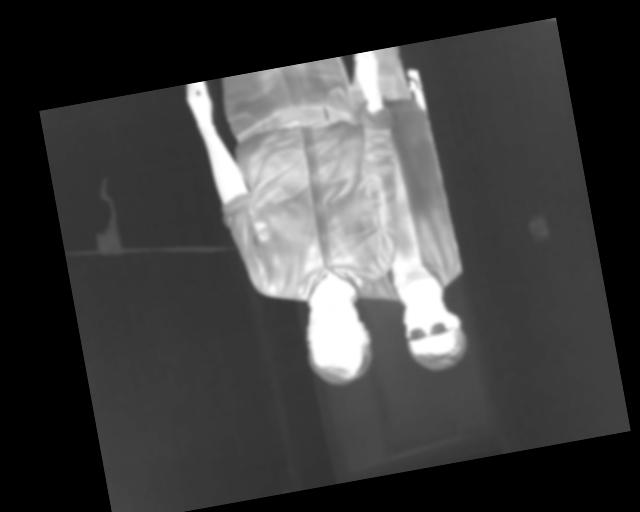face: (295, 286, 378, 391), (396, 288, 469, 376)
